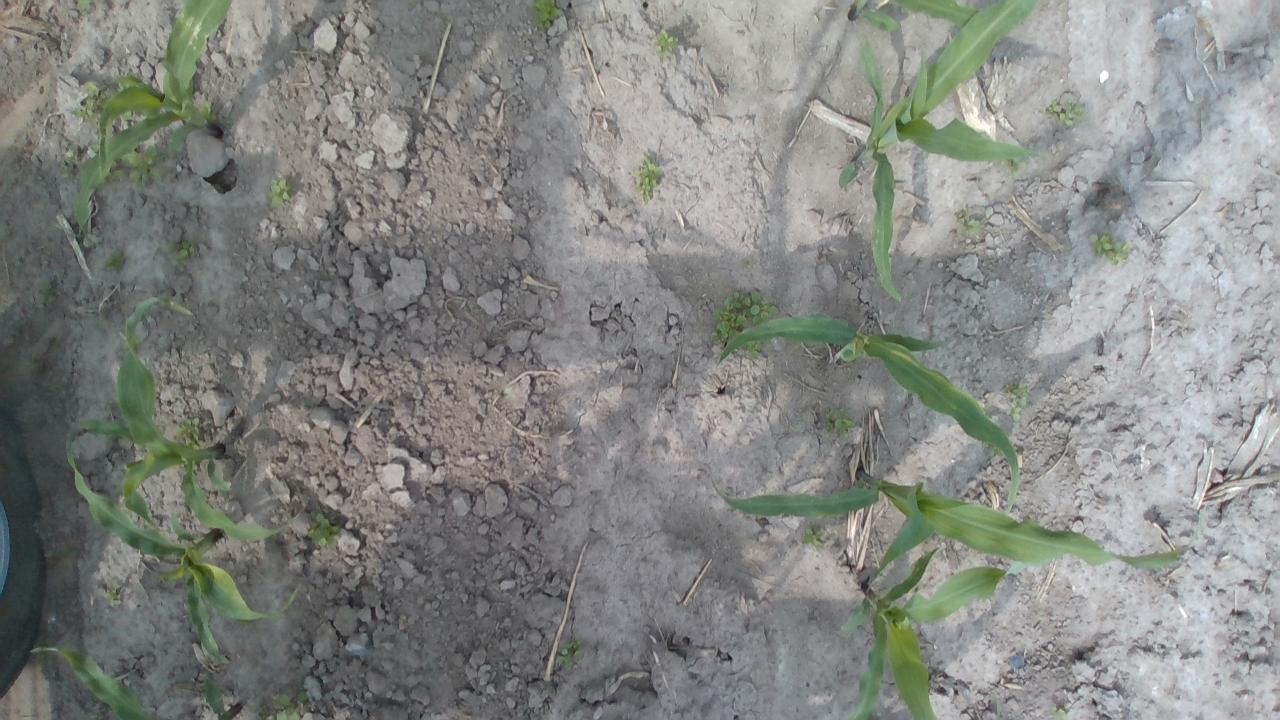Maize: (715, 312, 1022, 516), (838, 0, 1045, 302), (64, 295, 310, 545), (65, 422, 304, 666), (709, 462, 1208, 572), (74, 0, 233, 236), (839, 540, 1044, 720), (29, 644, 244, 720), (846, 0, 991, 33)
Weeds: (710, 290, 780, 360), (117, 145, 162, 184), (634, 152, 666, 204), (1088, 230, 1132, 265), (306, 512, 344, 549), (72, 82, 104, 121), (1045, 98, 1085, 128), (268, 691, 308, 720), (1002, 382, 1030, 422), (527, 0, 564, 28), (824, 408, 857, 439), (555, 638, 585, 670), (652, 27, 678, 60), (176, 418, 202, 449), (268, 178, 294, 208), (168, 240, 200, 264), (59, 148, 80, 179), (956, 212, 982, 236), (36, 284, 60, 306), (102, 585, 124, 607), (801, 528, 824, 548), (106, 252, 126, 274), (200, 101, 218, 122), (1052, 707, 1068, 720), (501, 386, 514, 399), (78, 0, 92, 12)
